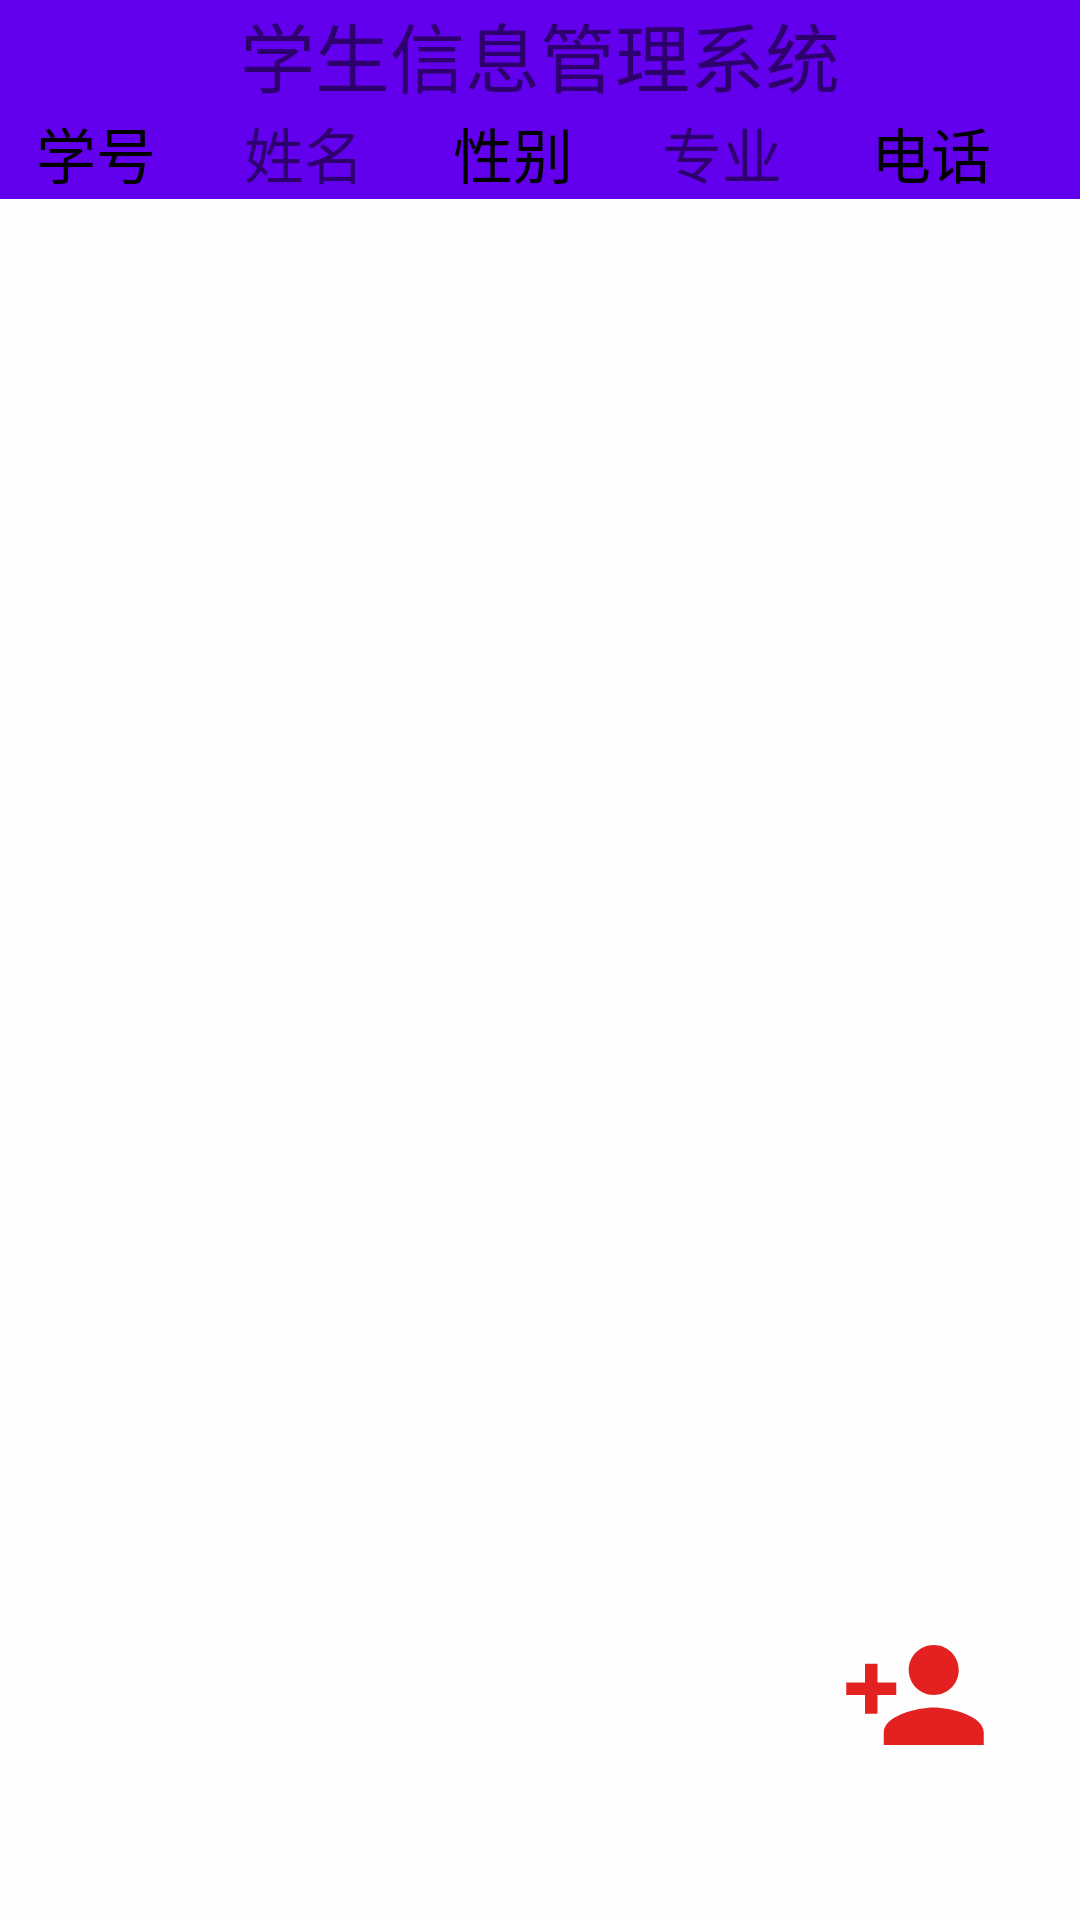

Named icons in this screenshot (1080×1920) and their bounding boxes, (x1,y1,x2,y2):
student add: (846,1645,984,1745)
